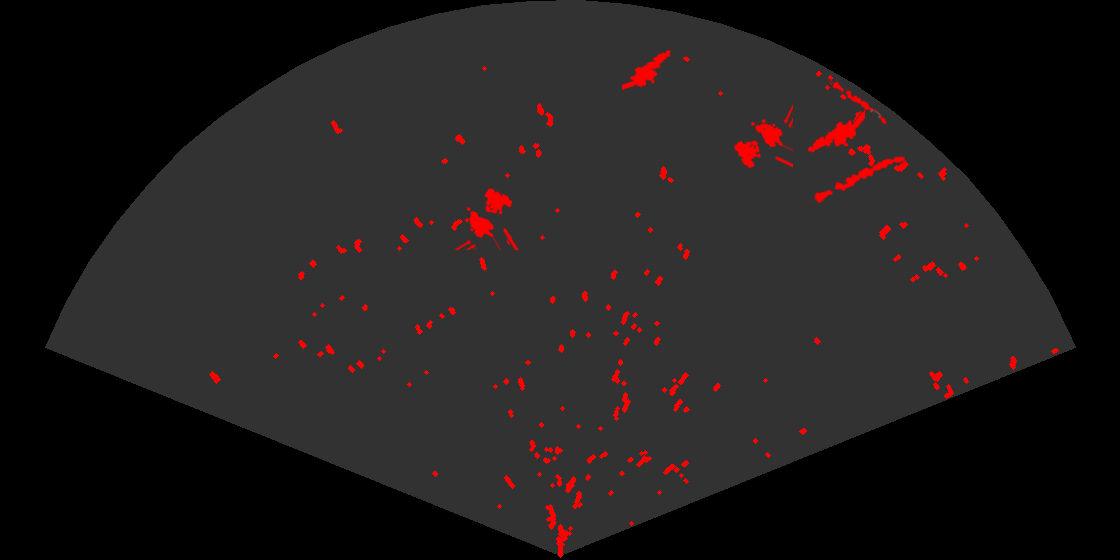cage: (453, 187, 520, 250), (733, 103, 793, 170)
chain: (804, 154, 907, 207), (828, 77, 895, 128)
frogman: (806, 108, 865, 154), (622, 48, 674, 92)
